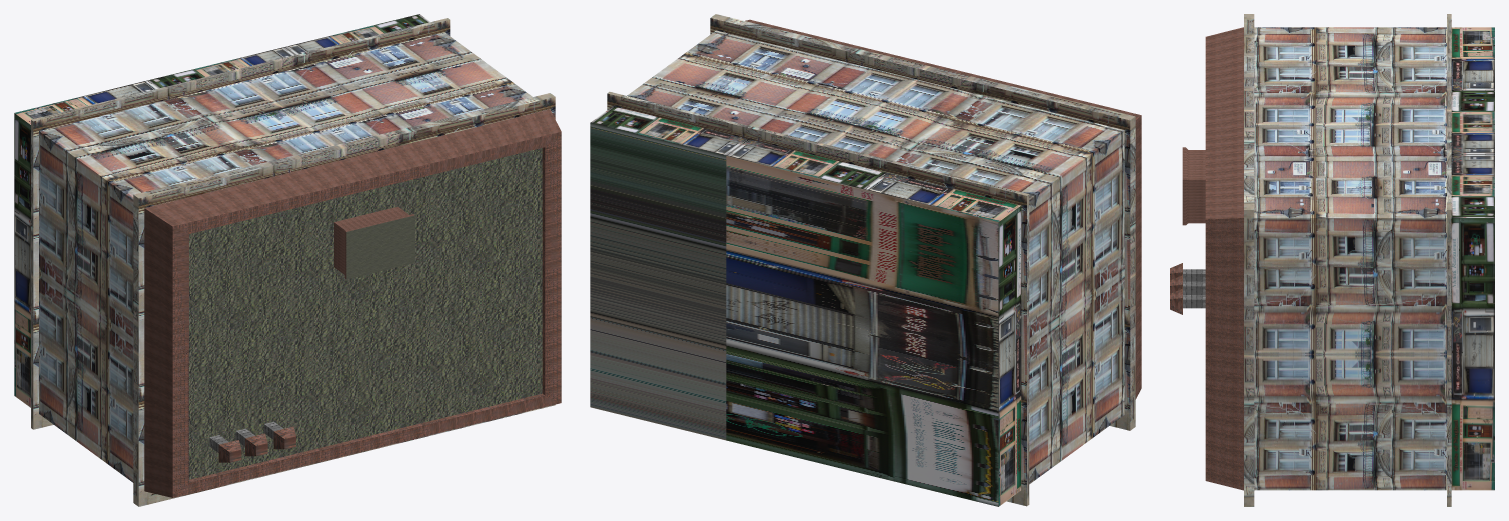
File: residential_building_06.obj
The picture shows the model from 3 angles, left to right: view 1: azimuth 30°, elevation 25°; view 2: azimuth 150°, elevation 25°; view 3: azimuth 270°, elevation 25°; orthographic projection. The views are drawn at different scales.
Parts seen in each view (by area): view 1: Shops_E_02; view 2: Shops_E_02; view 3: Shops_E_02.
Boxes of the visible parts, box(x1,y1,x2,y2) form: Shops_E_02: box(14, 14, 561, 506); Shops_E_02: box(590, 14, 1141, 506); Shops_E_02: box(1170, 14, 1494, 506).
Size of the model in its own units: 49.36 by 34.89 by 34.59.
Materials: 5 (5 with a texture image).
